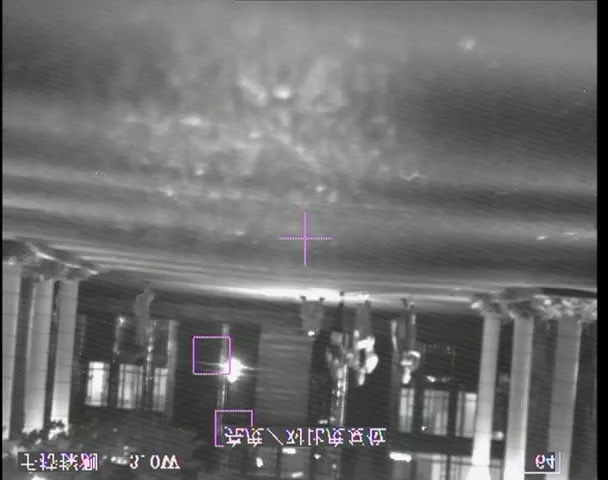my: (307, 331, 315, 337)
